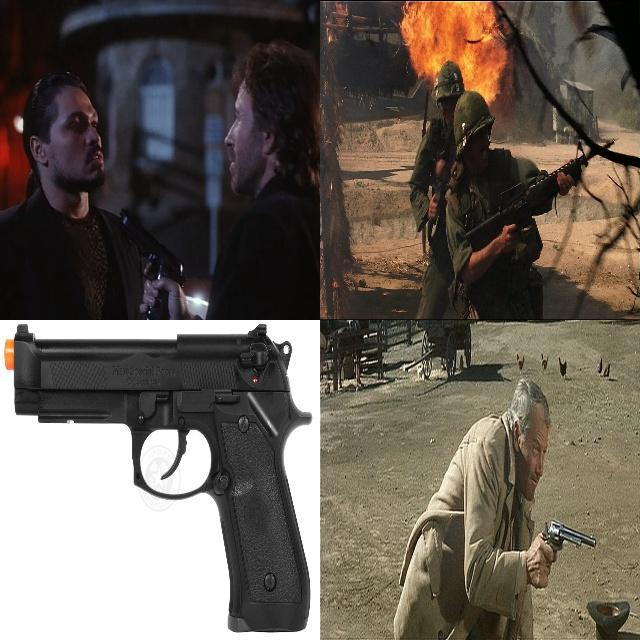gun-knife-thesis - v11 Yolov5 augmented: (3, 323, 314, 633), (474, 149, 606, 246), (116, 206, 188, 319), (532, 511, 596, 590)
